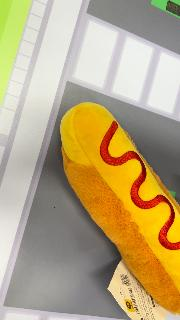hotdog: (60, 101, 180, 315)
